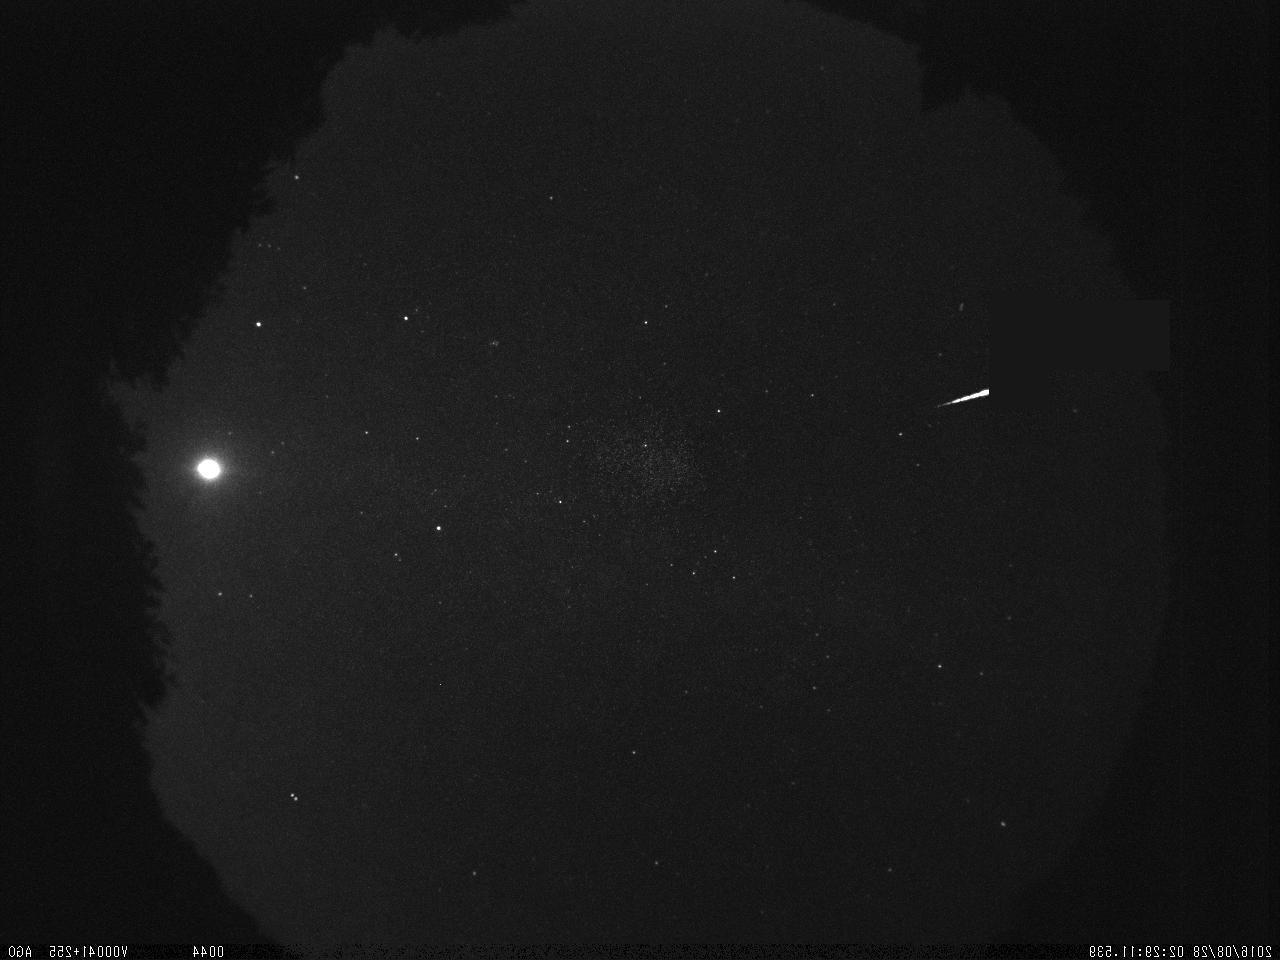meteor: (922, 368, 1017, 422)
